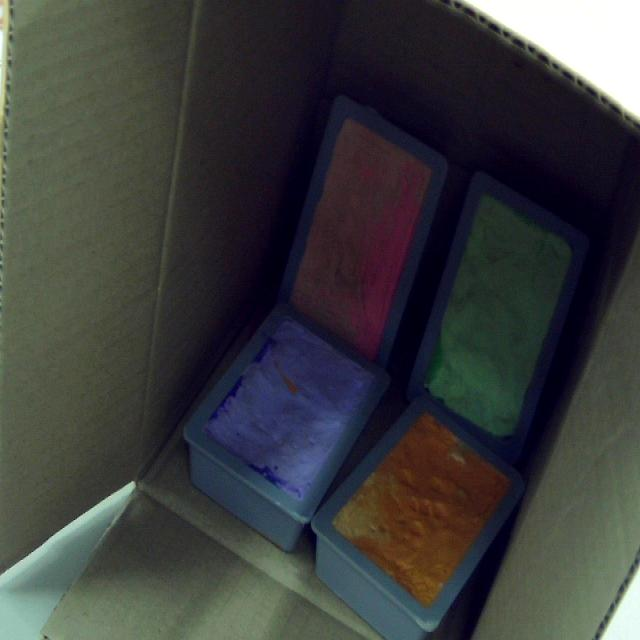block: (405, 171, 589, 468), (312, 396, 524, 640), (182, 312, 386, 550), (285, 100, 448, 366)
